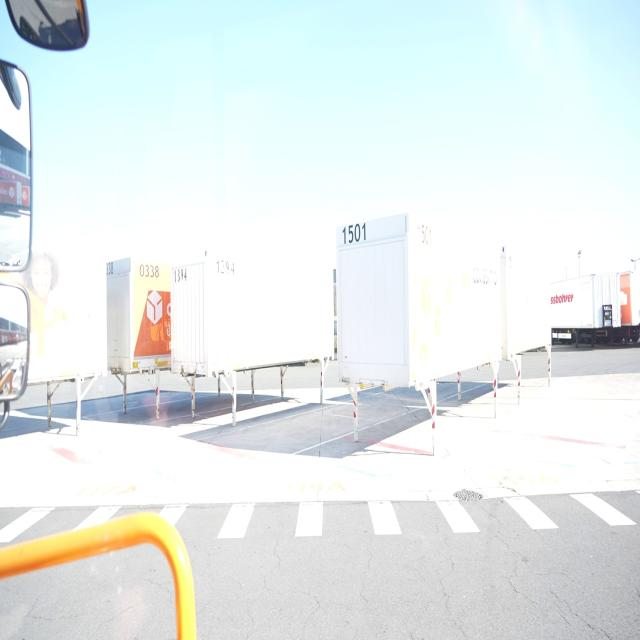Code: (340, 218, 369, 246), (137, 258, 167, 283), (214, 256, 236, 278), (172, 263, 187, 283)
